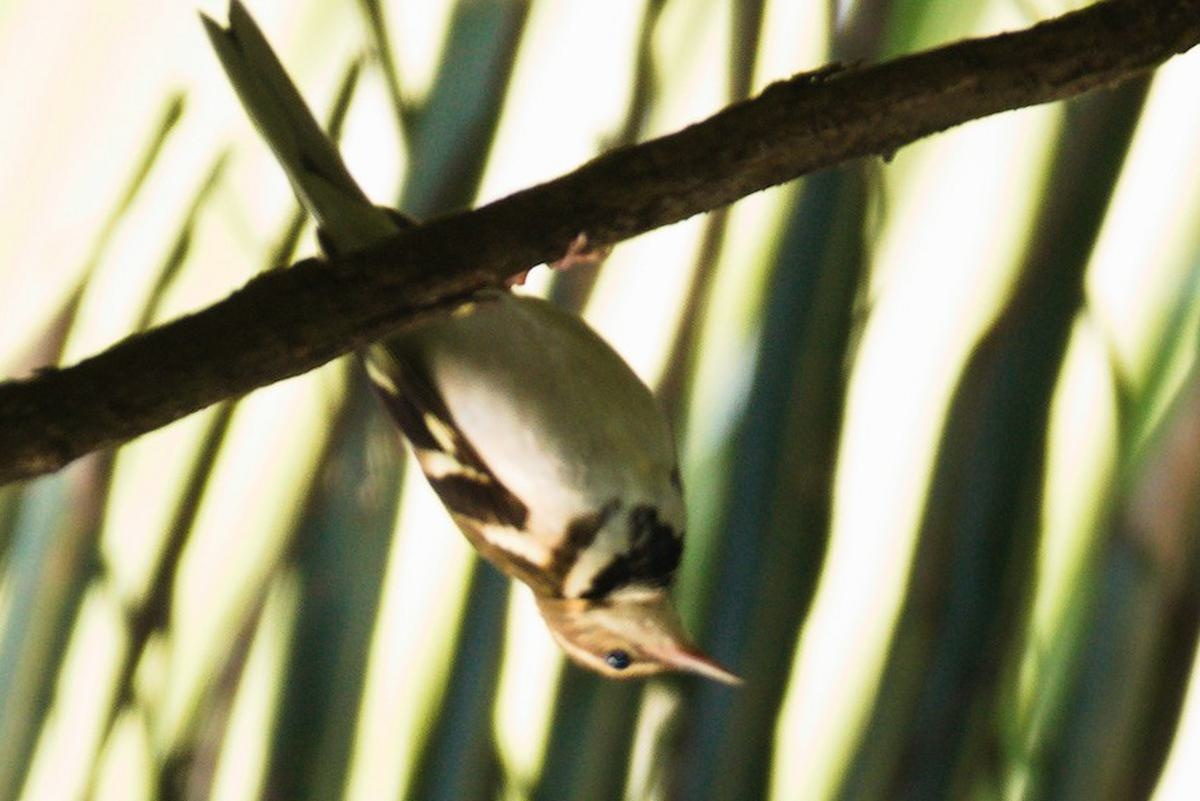wagtail: (258, 170, 787, 708)
